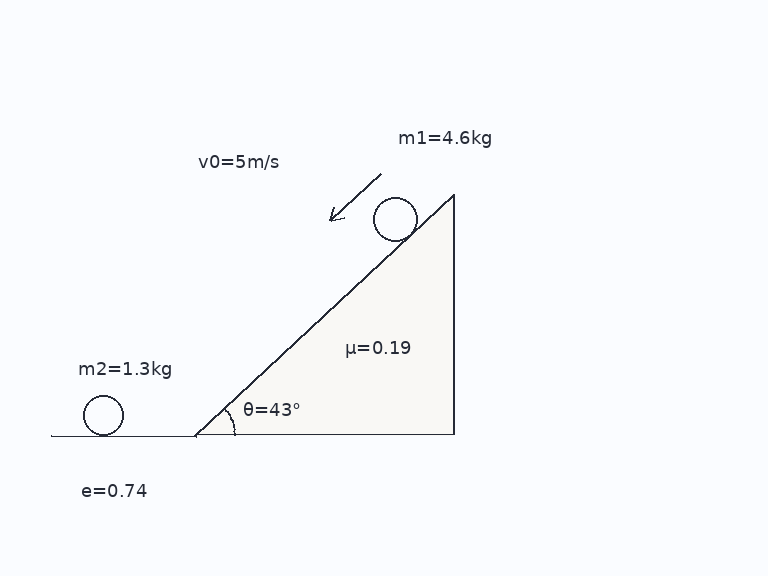ball: (371, 195, 419, 243), (81, 393, 125, 437)
ramp: (193, 192, 456, 437)
